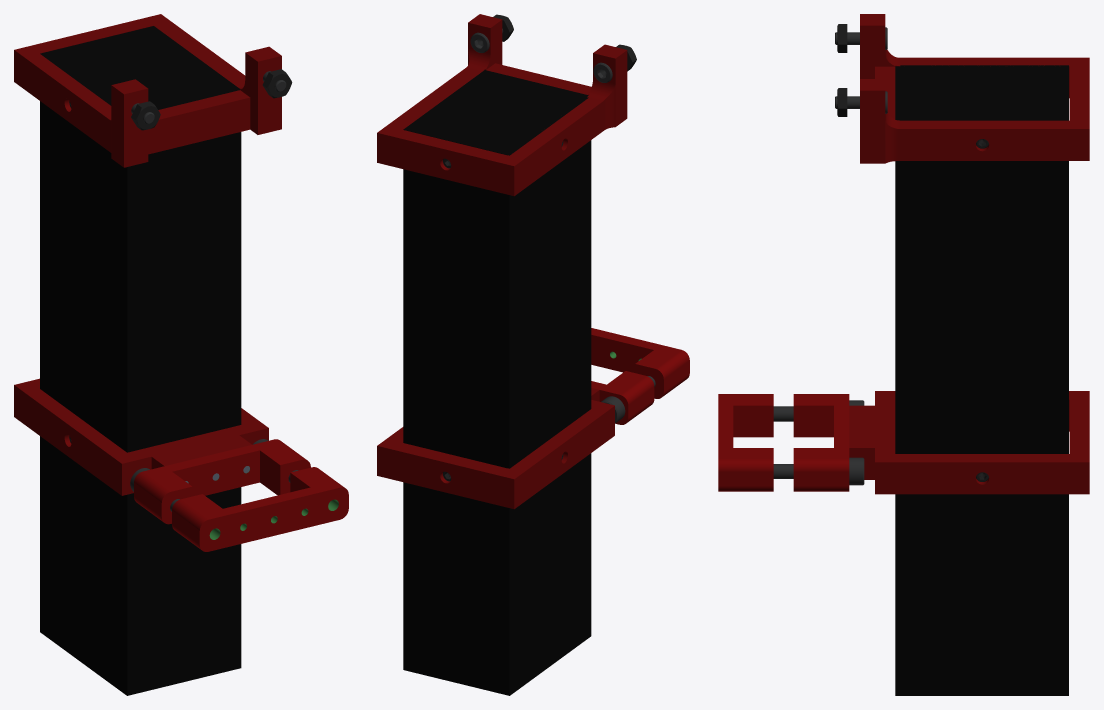
File: intel_euclid_201806.dae
The picture shows the model from 3 angles, left to right: view 1: azimuth 30°, elevation 25°; view 2: azimuth 150°, elevation 25°; view 3: azimuth 270°, elevation 25°; orthographic projection. The views are drawn at different scales.
Parts seen in each view (by area): view 1: Body_1 (×3), _3DGeom_134, _3DGeom_89, _3DGeom_222 (×2); view 2: Body_1 (×3), _3DGeom_134, _3DGeom_89; view 3: Body_1 (×4), _3DGeom_89, _3DGeom_134.
Part boxes in pixels (<box>): Body_1 (×3): <box>14,14,281,695</box>; _3DGeom_134: <box>172,467,348,551</box>; _3DGeom_89: <box>134,439,310,524</box>; _3DGeom_222 (×2): <box>131,69,292,130</box>; Body_1 (×3): <box>377,14,627,695</box>; _3DGeom_134: <box>591,328,689,398</box>; _3DGeom_89: <box>591,371,654,424</box>; Body_1 (×4): <box>773,14,1089,695</box>; _3DGeom_89: <box>793,394,849,491</box>; _3DGeom_134: <box>718,394,773,491</box>.
Bounding box in the file's own units: 0.036 × 0.0737 × 0.135.
